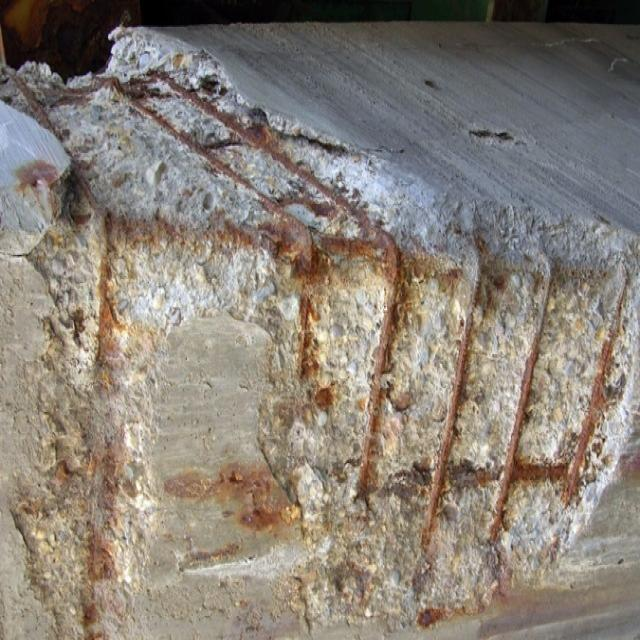spalling: (1, 27, 639, 628)
stain_mould: (236, 120, 406, 502), (432, 339, 605, 534)
